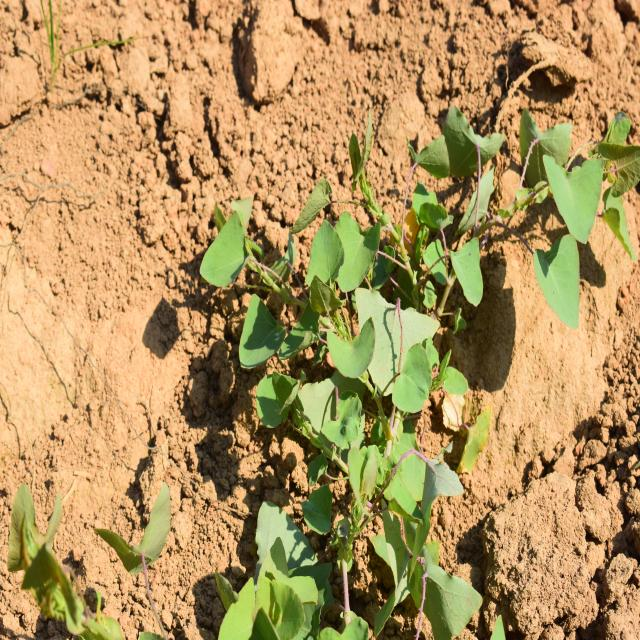Asiatic_Smartweed: (201, 192, 382, 407), (440, 109, 608, 318)
